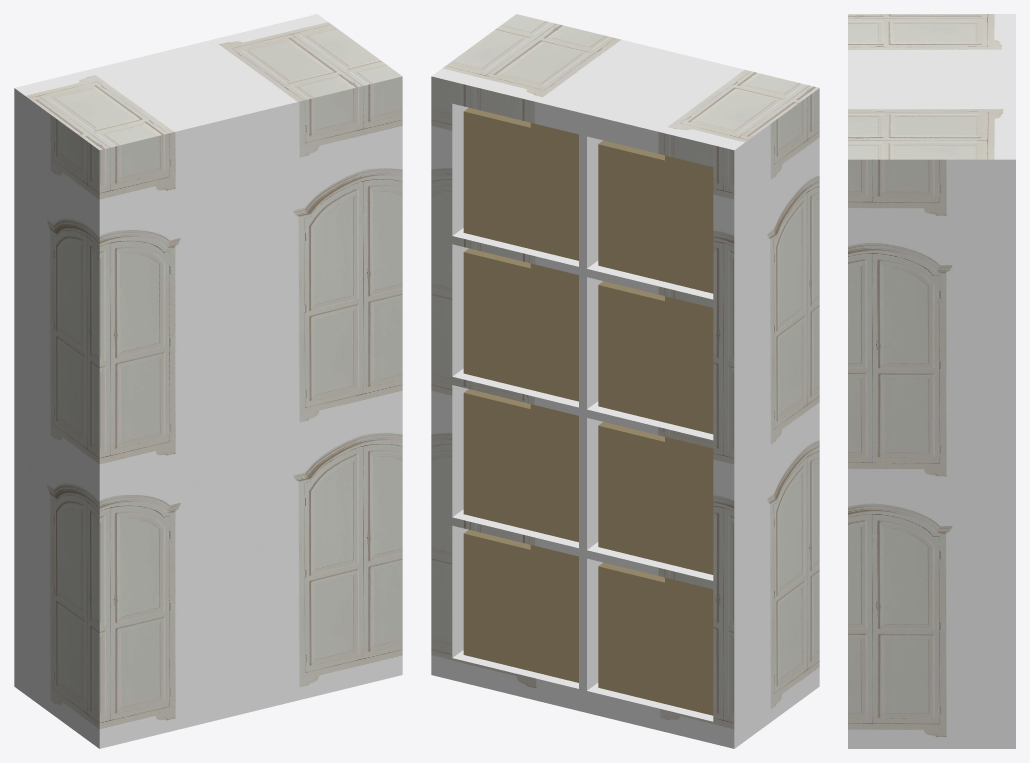
3 views of the same model, side by side, from view 1: azimuth 30°, elevation 25°; view 2: azimuth 150°, elevation 25°; view 3: azimuth 270°, elevation 25° (orthographic).
Parts seen in each view (by area): view 1: mesh1_mesh1-geometry; view 2: mesh1_mesh1-geometry; view 3: mesh1_mesh1-geometry.
Boxes of the visible parts, bbox=[...] form: mesh1_mesh1-geometry: bbox=[14, 14, 402, 748]; mesh1_mesh1-geometry: bbox=[431, 14, 819, 748]; mesh1_mesh1-geometry: bbox=[848, 14, 1015, 748].
Size of the model in its own units: 0.4565 by 0.8615 by 0.2223.
